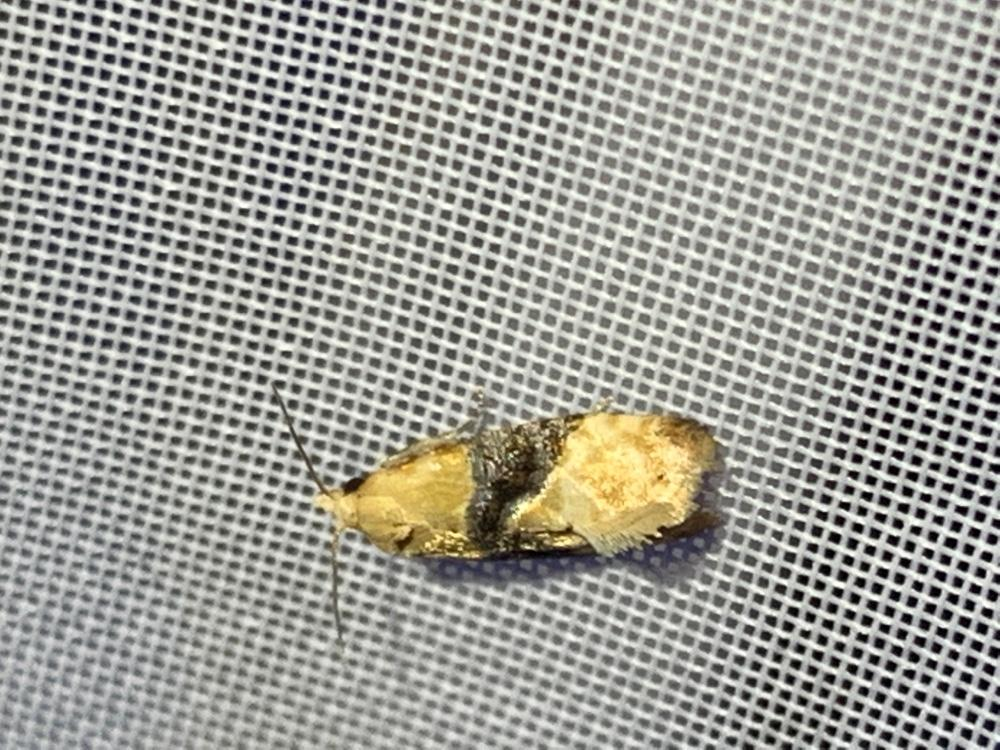Eupoecilia Ambiguella: (266, 377, 726, 644)
